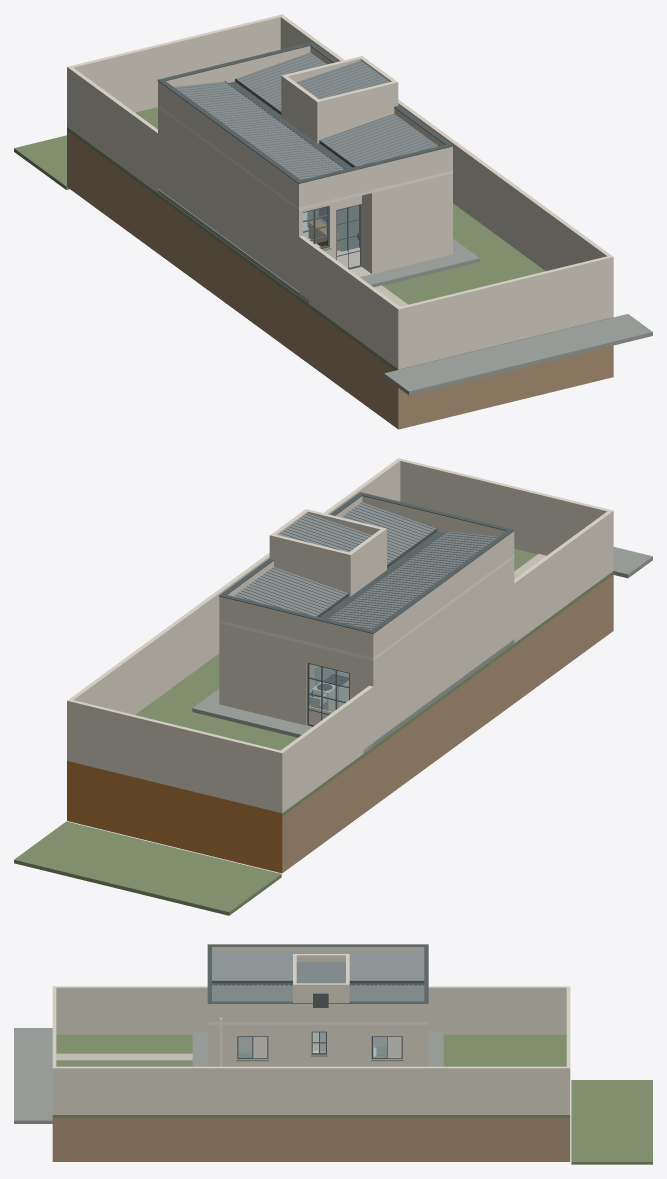
Rendered from casa-bp-modelo.glb.
The picture shows the model from 3 angles, top to bottom: view 1: azimuth 30°, elevation 25°; view 2: azimuth 150°, elevation 25°; view 3: azimuth 270°, elevation 25°; orthographic projection. The views are drawn at different scales.
Visible parts, largest first — view 1: Solo em corte esquemático — perfil lateral não levantado, Muro frontal — portões ainda não definidos, Muro lateral na divisa da casa — 2,00 m (×2), Parede cega / divisa do desenho, Muro lateral direito do desenho — 2,00 m, Muro fundos — 2,00 m sobre terreno, Terreno 7,50 × 20,00 m — cota plana provisória, Passeio público — contexto ilustrativo, Frente dormitório 1, Platibanda frente / fundo (×2), Volume elevado caixa d’água (×2), Pano 1 — social (+12 smaller); view 2: Solo em corte esquemático — perfil lateral não levantado, Face indicativa de contenção — 2 m estimados; seção e fundaç, Muro fundos — 2,00 m sobre terreno, Muro lateral na divisa da casa — 2,00 m (×2), Referência do nível do vizinho — extensão apenas ilustrativa, Parede cega / divisa do desenho, Muro lateral direito do desenho — 2,00 m, Muro frontal — portões ainda não definidos, Fundo (×3), Terreno 7,50 × 20,00 m — cota plana provisória, Platibanda frente / fundo (×2), Volume elevado caixa d’água (×2) (+11 smaller); view 3: Muro lateral direito do desenho — 2,00 m, Solo em corte esquemático — perfil lateral não levantado, Muro lateral na divisa da casa — 2,00 m (×2), Terreno 7,50 × 20,00 m — cota plana provisória, Fachada lateral com janelas (×6), Referência do nível do vizinho — extensão apenas ilustrativa, Platibanda lateral (×2), Pano 1 — social, Passeio público — contexto ilustrativo, Volume elevado caixa d’água (×2), Pano 2 — dormitório 1, Rufo de coroamento lateral (×2) (+8 smaller).
Boxes of the visible parts, x1=… form: Solo em corte esquemático — perfil lateral não levantado: x1=67, y1=131, x2=613, y2=429; Muro frontal — portões ainda não definidos: x1=400, y1=256, x2=609, y2=368; Muro lateral na divisa da casa — 2,00 m (×2): x1=67, y1=66, x2=402, y2=369; Parede cega / divisa do desenho: x1=158, y1=108, x2=302, y2=291; Muro lateral direito do desenho — 2,00 m: x1=279, y1=14, x2=613, y2=317; Muro fundos — 2,00 m sobre terreno: x1=71, y1=15, x2=280, y2=112; Terreno 7,50 × 20,00 m — cota plana provisória: x1=67, y1=107, x2=613, y2=370; Passeio público — contexto ilustrativo: x1=384, y1=314, x2=652, y2=395; Frente dormitório 1: x1=369, y1=174, x2=448, y2=273; Platibanda frente / fundo (×2): x1=166, y1=46, x2=448, y2=206; Volume elevado caixa d’água (×2): x1=281, y1=74, x2=394, y2=143; Pano 1 — social: x1=174, y1=81, x2=343, y2=179; Solo em corte esquemático — perfil lateral não levantado: x1=282, y1=574, x2=613, y2=872; Face indicativa de contenção — 2 m estimados; seção e fundaç: x1=67, y1=761, x2=282, y2=873; Muro fundos — 2,00 m sobre terreno: x1=71, y1=700, x2=280, y2=812; Muro lateral na divisa da casa — 2,00 m (×2): x1=278, y1=510, x2=613, y2=813; Referência do nível do vizinho — extensão apenas ilustrativa: x1=14, y1=821, x2=281, y2=915; Parede cega / divisa do desenho: x1=369, y1=558, x2=514, y2=741; Muro lateral direito do desenho — 2,00 m: x1=67, y1=458, x2=401, y2=761; Muro frontal — portões ainda não definidos: x1=400, y1=459, x2=609, y2=555; Fundo (×3): x1=223, y1=624, x2=369, y2=725; Terreno 7,50 × 20,00 m — cota plana provisória: x1=135, y1=549, x2=613, y2=816; Platibanda frente / fundo (×2): x1=223, y1=496, x2=506, y2=656; Volume elevado caixa d’água (×2): x1=274, y1=527, x2=386, y2=596; Muro lateral direito do desenho — 2,00 m: x1=52, y1=1066, x2=570, y2=1114; Solo em corte esquemático — perfil lateral não levantado: x1=52, y1=1118, x2=570, y2=1161; Muro lateral na divisa da casa — 2,00 m (×2): x1=52, y1=986, x2=570, y2=1034; Terreno 7,50 × 20,00 m — cota plana provisória: x1=52, y1=1034, x2=570, y2=1117; Fachada lateral com janelas (×6): x1=208, y1=1024, x2=428, y2=1066; Referência do nível do vizinho — extensão apenas ilustrativa: x1=571, y1=1080, x2=652, y2=1164; Platibanda lateral (×2): x1=208, y1=946, x2=428, y2=1022; Pano 1 — social: x1=212, y1=951, x2=424, y2=980; Passeio público — contexto ilustrativo: x1=14, y1=1028, x2=52, y2=1123; Volume elevado caixa d’água (×2): x1=293, y1=954, x2=349, y2=1022; Pano 2 — dormitório 1: x1=212, y1=985, x2=292, y2=1001; Rufo de coroamento lateral (×2): x1=208, y1=944, x2=428, y2=1003.
Bounding box in the file's own units: 8.5 × 6.68 × 24.7.
